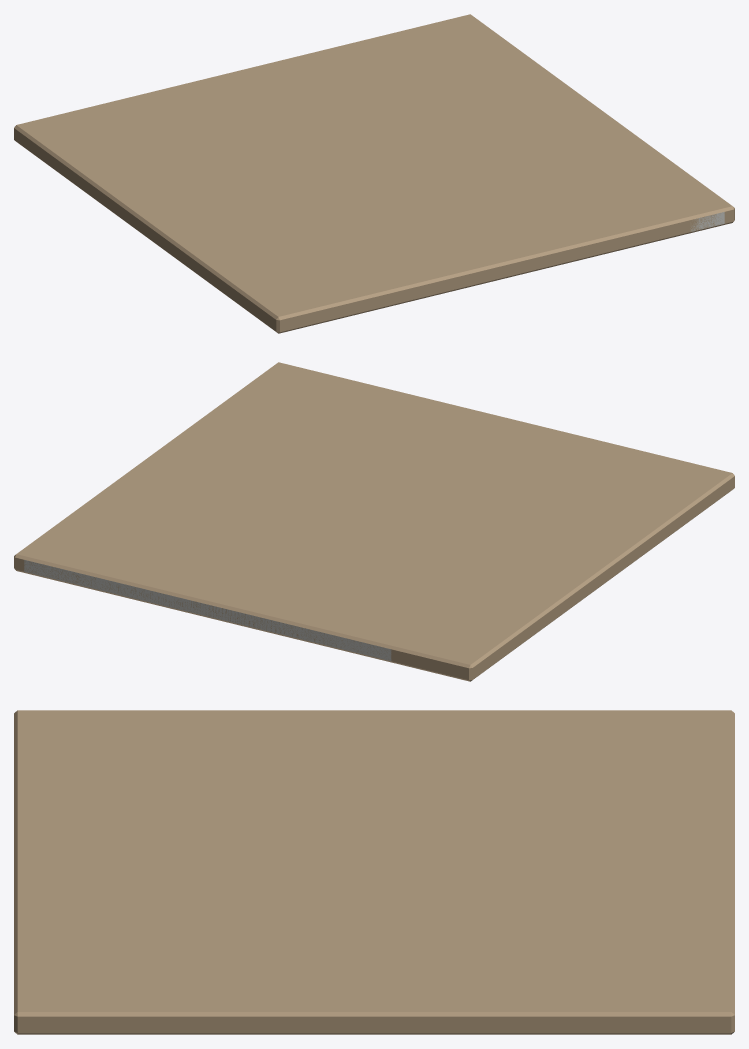
Rendered from town_cobble_road_corner.glb.
The picture shows the model from 3 angles, top to bottom: view 1: azimuth 30°, elevation 25°; view 2: azimuth 150°, elevation 25°; view 3: azimuth 270°, elevation 25°; orthographic projection. The views are drawn at different scales.
Visible parts, largest first — view 1: world; view 2: world; view 3: world.
Boxes of the visible parts, x1,y1,x2,y2 form: world: [14, 14, 734, 333]; world: [14, 362, 734, 681]; world: [14, 710, 734, 1034].
Bounding box in the file's own units: 2 × 0.0701 × 2.
